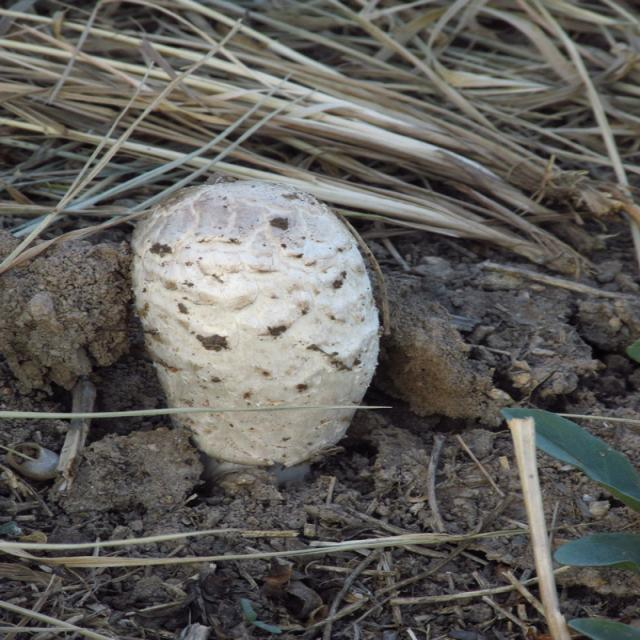Coprinus comatus: (132, 180, 381, 469)
